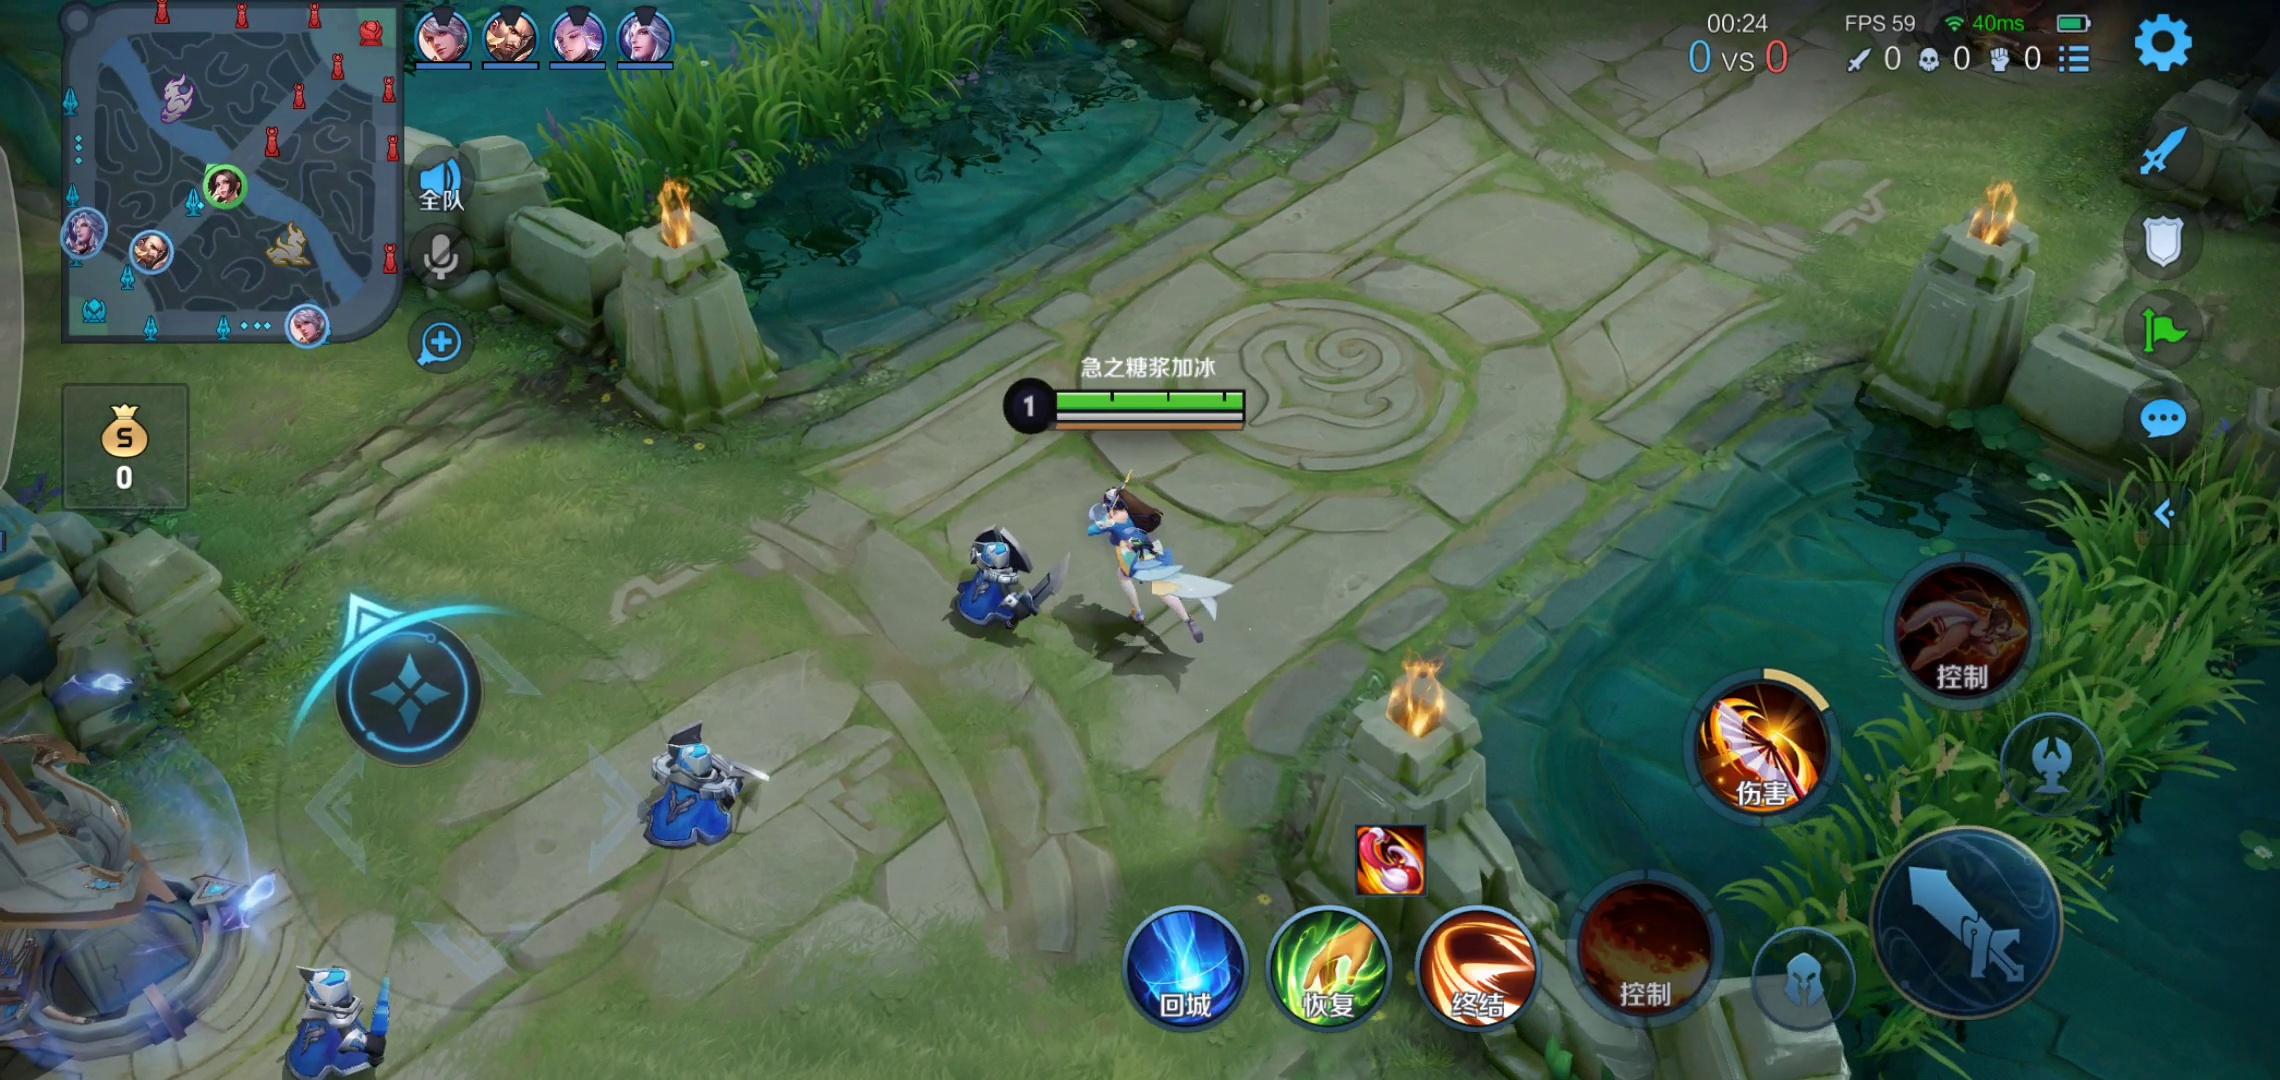grass: (1746, 438, 2277, 1016), (523, 4, 1091, 227)
hero: (1076, 483, 1223, 651)
soldier: (265, 959, 401, 1079), (638, 722, 755, 852), (950, 517, 1075, 634)
tower: (1, 734, 268, 1060)
